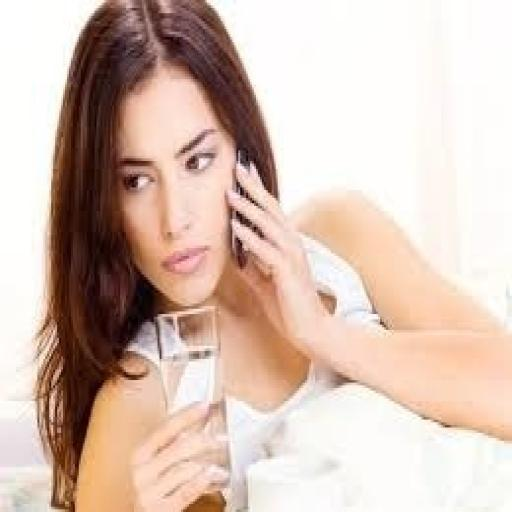calling: (29, 0, 510, 509)
